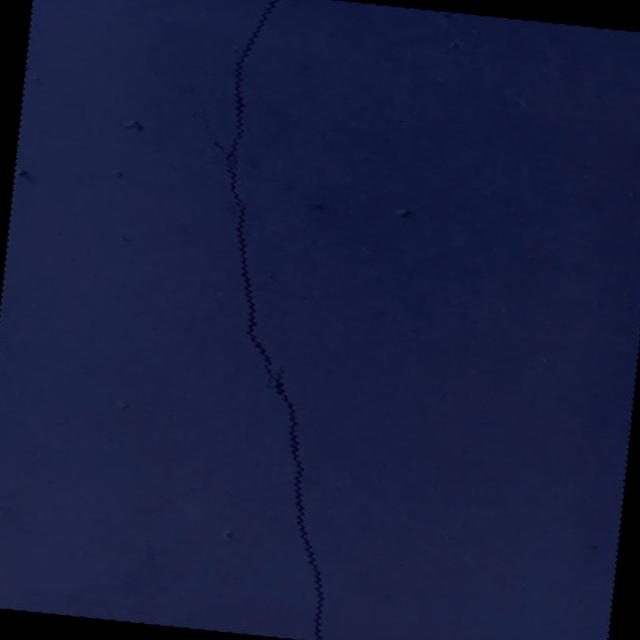crack: (174, 0, 313, 389), (247, 363, 350, 640)
